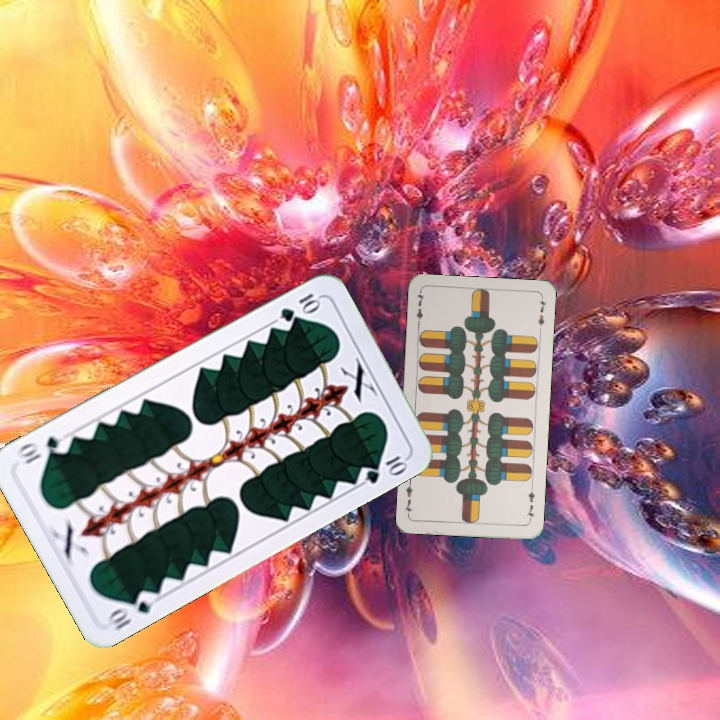E7: (522, 483, 537, 524), (413, 288, 427, 329)
G10: (104, 586, 156, 634), (276, 289, 323, 325)
